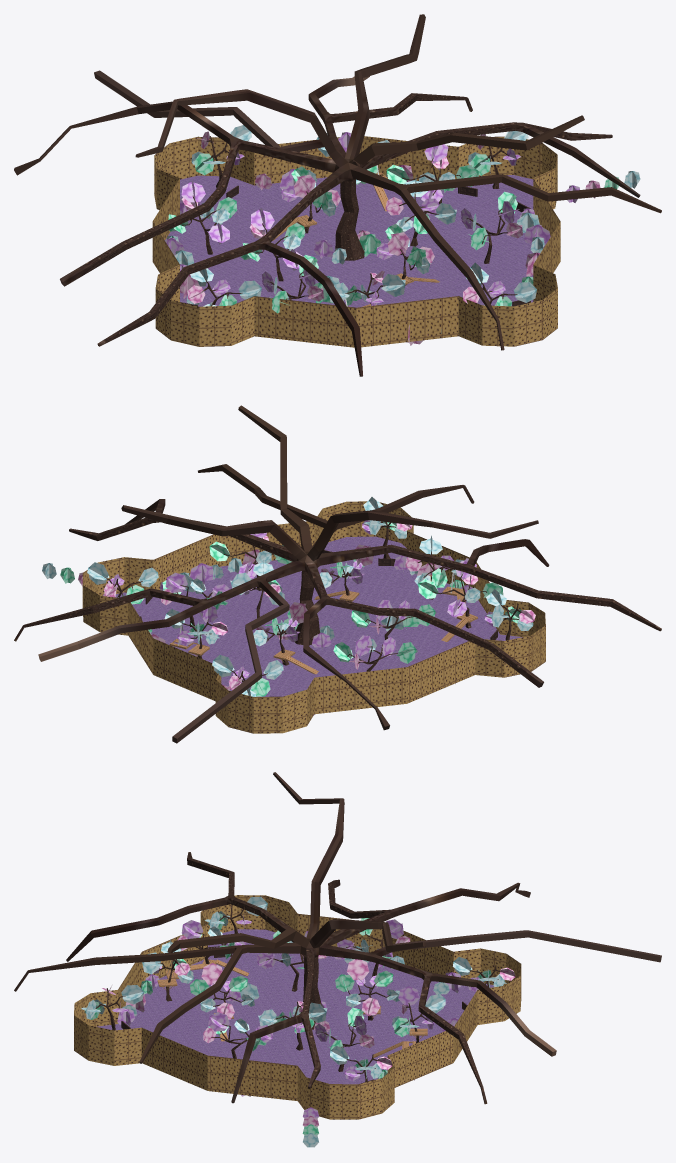
The model's file is Assets_for_BloodySugar_V5.fbx.
3 renders of one model, top to bottom at view 1: azimuth 30°, elevation 25°; view 2: azimuth 150°, elevation 25°; view 3: azimuth 270°, elevation 25°, orthographic. The views are drawn at different scales.
Parts seen in each view (by area): view 1: MegaTree, Arena.001, Arena; view 2: Arena.001, MegaTree, Arena; view 3: Arena.001, MegaTree, Arena.
Boxes of the visible parts, bbox=[...] form: MegaTree: bbox=[14, 14, 661, 376]; Arena.001: bbox=[152, 136, 560, 347]; Arena: bbox=[166, 175, 544, 307]; Arena.001: bbox=[82, 501, 545, 733]; MegaTree: bbox=[14, 405, 661, 743]; Arena: bbox=[115, 536, 522, 696]; Arena.001: bbox=[74, 895, 521, 1119]; MegaTree: bbox=[14, 772, 661, 1104]; Arena: bbox=[96, 929, 494, 1084].
Bounding box in the file's own units: 13512 × 3941 × 14074.
